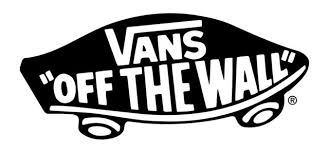vans: (101, 19, 208, 66)
